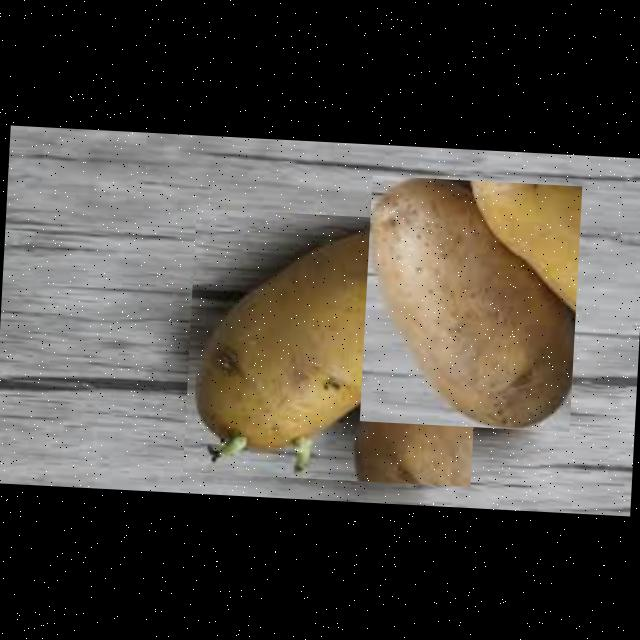Potato: (358, 174, 582, 432)
Sprouted potato: (182, 207, 483, 486)
